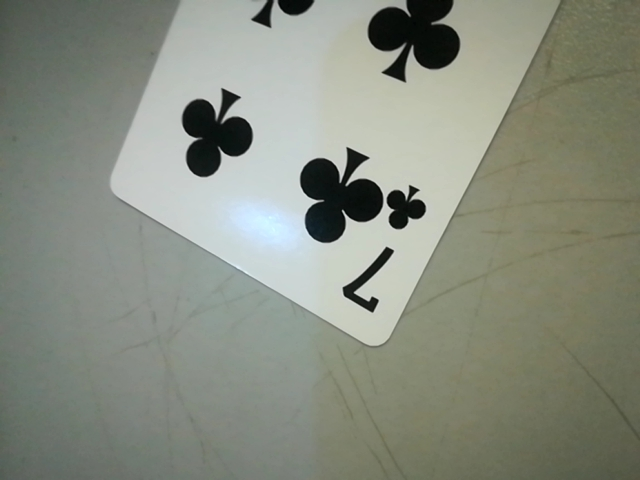mh 7: (332, 177, 427, 328)
